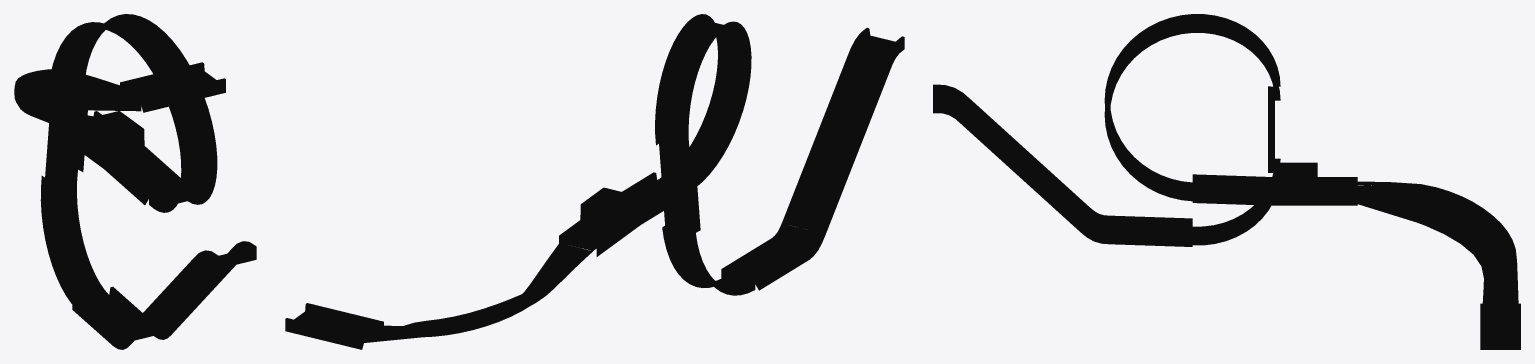
File: Chunk2.obj
3 renders of one model, left to right at view 1: azimuth 30°, elevation 25°; view 2: azimuth 150°, elevation 25°; view 3: azimuth 270°, elevation 25°, orthographic. The views are drawn at different scales.
Bounding box in the file's own units: 741 × 588 × 1336.
